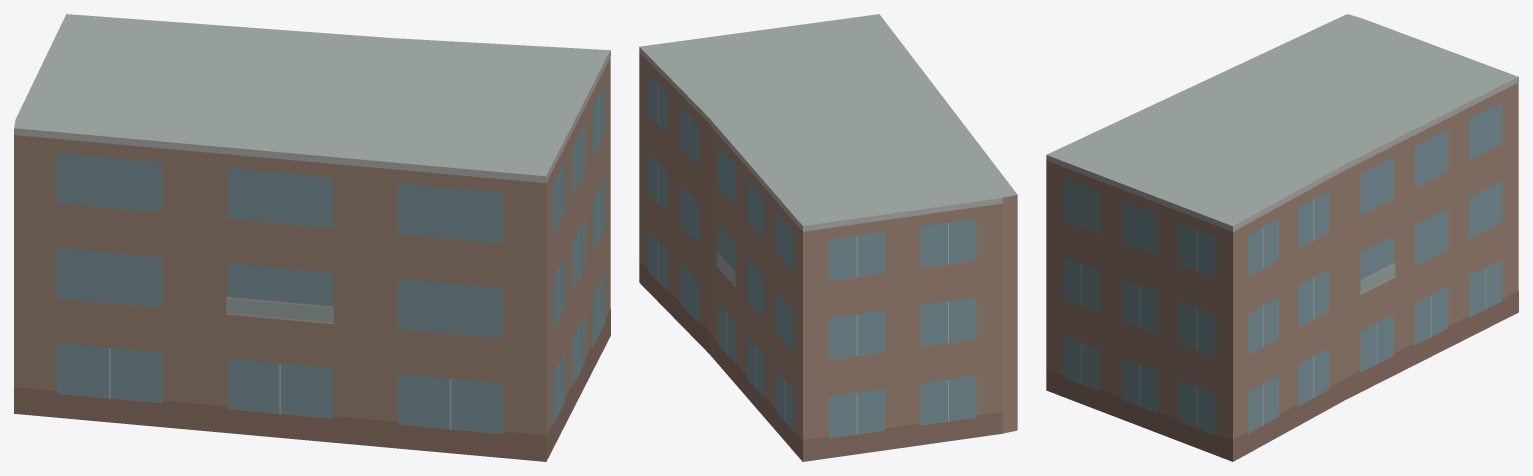
Rendered from survey-upis-32524437.glb.
3 renders of one model, left to right at view 1: azimuth 30°, elevation 25°; view 2: azimuth 150°, elevation 25°; view 3: azimuth 270°, elevation 25°, orthographic. The views are drawn at different scales.
Parts seen in each view (by area): view 1: survey-upis-32524437.tmp; view 2: survey-upis-32524437.tmp; view 3: survey-upis-32524437.tmp.
Part boxes in pixels (x1,y1,x2,y2): survey-upis-32524437.tmp: (14, 14, 610, 461); survey-upis-32524437.tmp: (639, 14, 1017, 461); survey-upis-32524437.tmp: (1046, 14, 1518, 461).
Size of the model in its own units: 19.72 by 10.2 by 18.55.
